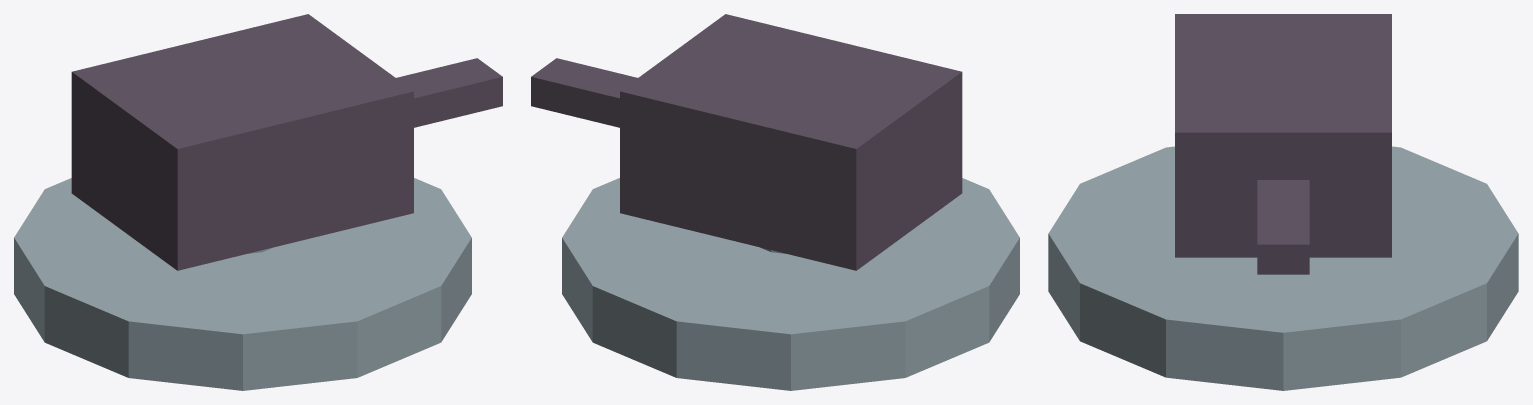
File: Turret.fbx
3 renders of one model, left to right at view 1: azimuth 30°, elevation 25°; view 2: azimuth 150°, elevation 25°; view 3: azimuth 270°, elevation 25°, orthographic. The views are drawn at different scales.
Parts seen in each view (by area): view 1: Cube, Cylinder; view 2: Cube, Cylinder; view 3: Cylinder, Cube.
Boxes of the visible parts, bbox=[...] form: Cube: bbox=[71, 14, 502, 270]; Cylinder: bbox=[14, 178, 471, 390]; Cube: bbox=[531, 14, 962, 270]; Cylinder: bbox=[562, 178, 1019, 390]; Cylinder: bbox=[1048, 146, 1518, 390]; Cube: bbox=[1175, 14, 1391, 274].
Bounding box in the file's own units: 449 × 205 × 400.
